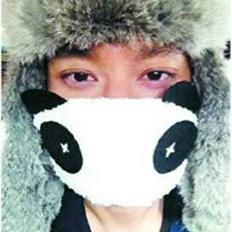OK: (39, 39, 207, 207)
